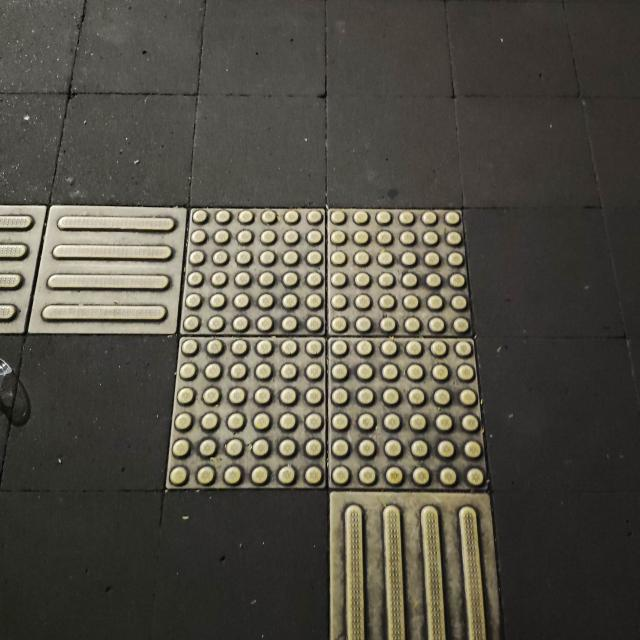kiri: (0, 181, 528, 546)
